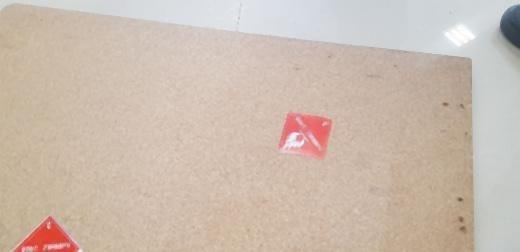flammable: (277, 111, 334, 161)
